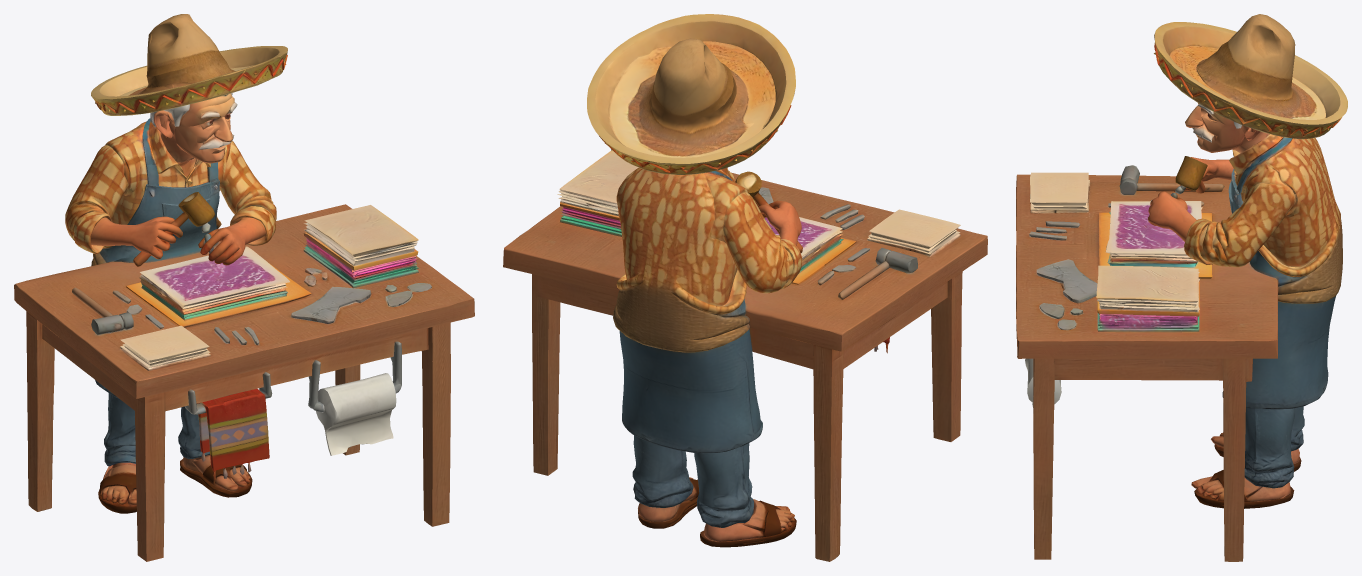
The model's file is base_basic_pbr.glb.
3 renders of one model, left to right at view 1: azimuth 30°, elevation 25°; view 2: azimuth 150°, elevation 25°; view 3: azimuth 270°, elevation 25°, orthographic. The views are drawn at different scales.
Parts seen in each view (by area): view 1: root.0, root.3, root.4, root.2, root.1; view 2: root.0, root.4, root.3, root.2; view 3: root.0, root.4, root.3, root.1, root.2.
Part boxes in pixels (bbox=[...]): root.0: bbox=[14, 204, 474, 561]; root.3: bbox=[91, 14, 287, 195]; root.4: bbox=[91, 50, 287, 513]; root.2: bbox=[65, 145, 215, 266]; root.1: bbox=[198, 141, 276, 265]; root.0: bbox=[503, 150, 987, 561]; root.4: bbox=[609, 34, 796, 547]; root.3: bbox=[587, 14, 795, 242]; root.2: bbox=[723, 171, 802, 293]; root.0: bbox=[1016, 165, 1277, 561]; root.4: bbox=[1169, 46, 1342, 508]; root.3: bbox=[1154, 14, 1347, 205]; root.1: bbox=[1148, 183, 1294, 267]; root.2: bbox=[1175, 156, 1233, 194].
Size of the model in its own units: 1.45 by 1.89 by 1.22.
Materials: 5 (5 with a texture image).
